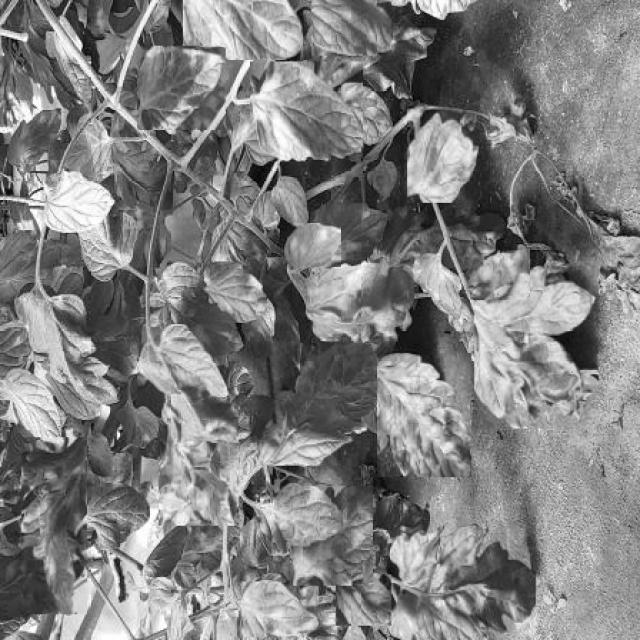Leaf Mold: (474, 266, 599, 428), (388, 524, 536, 640), (258, 344, 378, 466), (377, 353, 472, 477), (22, 437, 87, 614), (250, 62, 363, 162), (158, 404, 238, 526), (305, 260, 415, 341), (290, 486, 373, 585), (137, 46, 225, 130), (183, 0, 303, 60), (138, 325, 228, 399), (408, 109, 479, 202), (312, 0, 392, 56), (242, 582, 319, 637), (204, 261, 267, 323), (274, 478, 330, 542), (470, 244, 530, 300), (336, 575, 391, 626), (283, 222, 340, 269)
